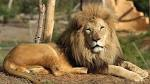lion: (7, 10, 147, 83)
